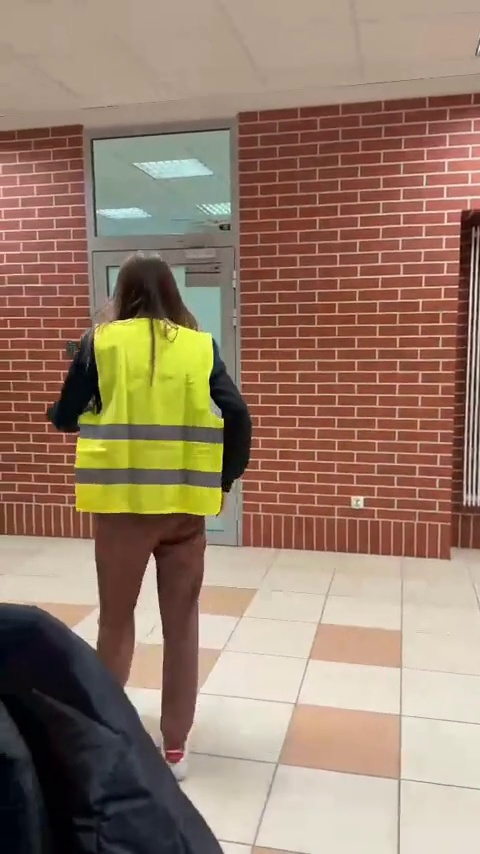vest: (42, 246, 260, 782)
